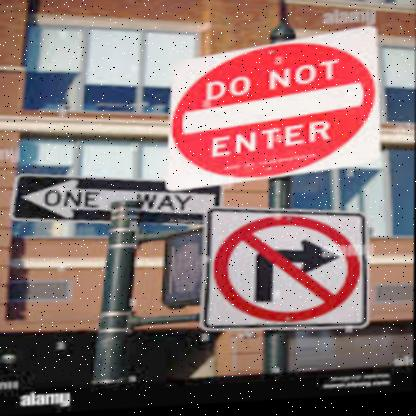No right turn: (208, 205, 369, 338)
